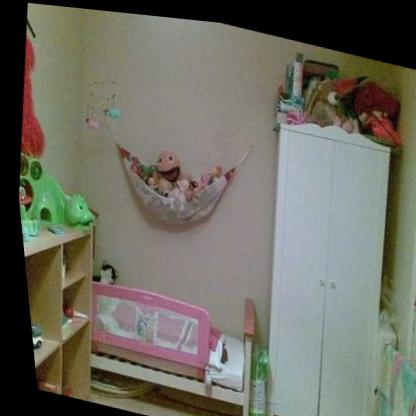Bed: (67, 256, 261, 416)
Closet: (229, 97, 416, 416)
